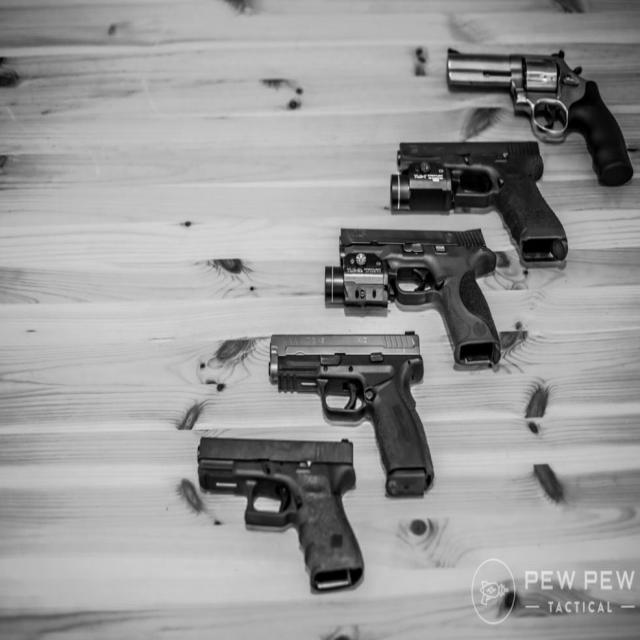Weapon: (270, 332, 433, 494), (198, 438, 363, 589), (447, 50, 632, 184), (325, 229, 500, 363), (389, 141, 567, 261)
